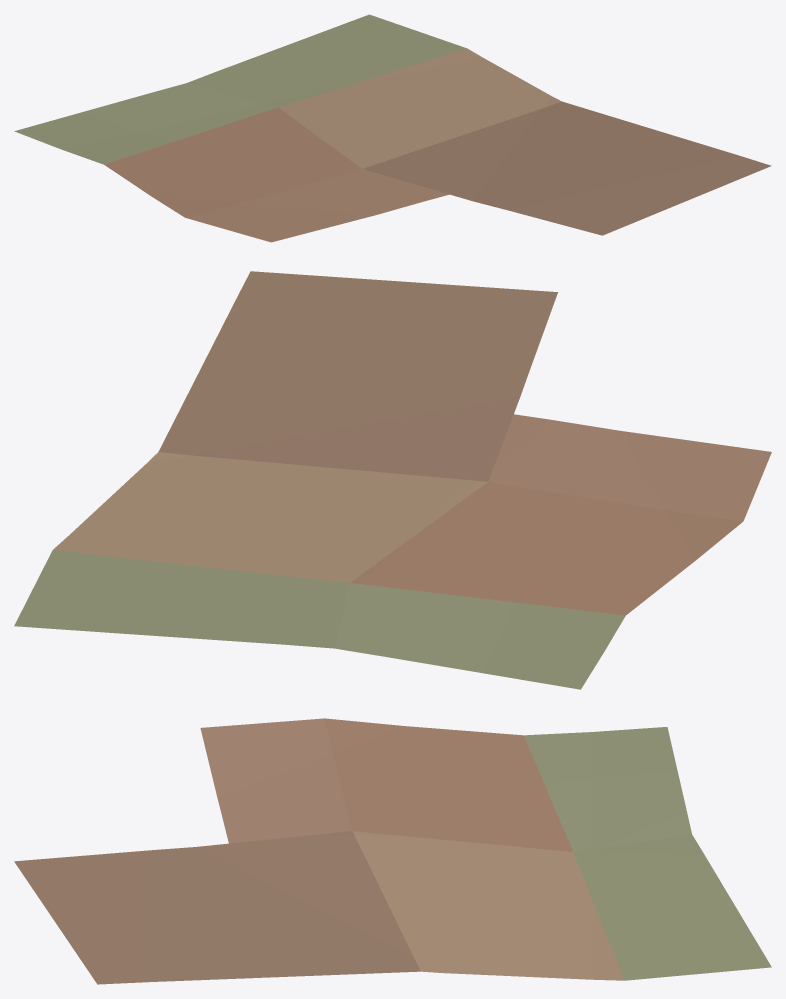
Rendered from farm_15_-1_soil.glb.
3 renders of one model, top to bottom at view 1: azimuth 30°, elevation 25°; view 2: azimuth 150°, elevation 25°; view 3: azimuth 270°, elevation 25°, orthographic. The views are drawn at different scales.
Visible parts, largest first — view 1: geometry_0; view 2: geometry_0; view 3: geometry_0.
Part boxes in pixels (<box>): geometry_0: <box>14,14,771,242</box>; geometry_0: <box>14,271,771,689</box>; geometry_0: <box>14,718,771,984</box>.
Bounding box in the file's own units: 122 × 10.24 × 137.
